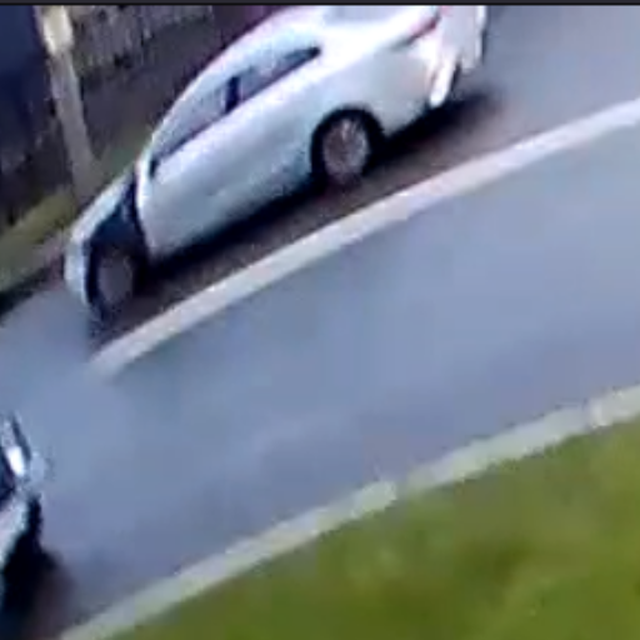car: (63, 1, 490, 322)
